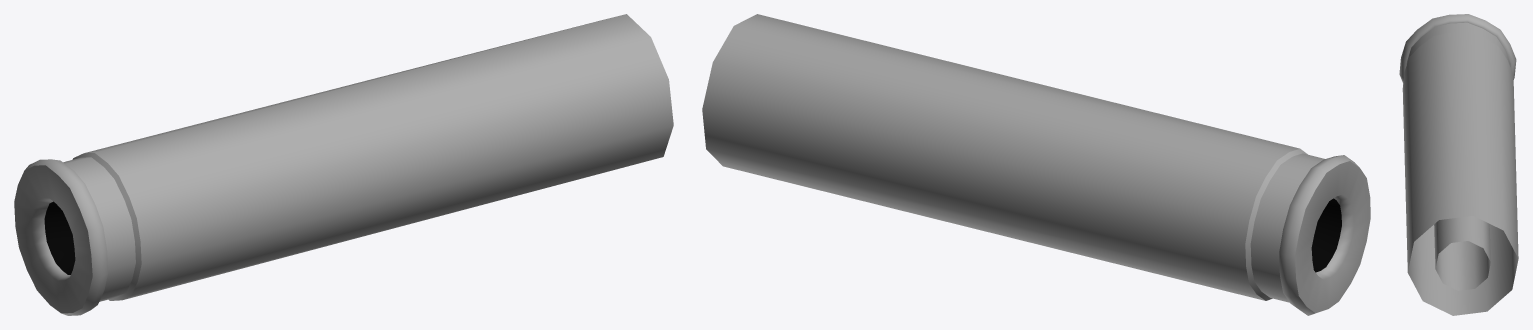
Rendered from prop_pipe.fbx.
The picture shows the model from 3 angles, left to right: view 1: azimuth 30°, elevation 25°; view 2: azimuth 150°, elevation 25°; view 3: azimuth 270°, elevation 25°; orthographic projection. The views are drawn at different scales.
Parts seen in each view (by area): view 1: prop_pipe; view 2: prop_pipe; view 3: prop_pipe.
Boxes of the visible parts, bbox=[...] form: prop_pipe: bbox=[14, 14, 673, 315]; prop_pipe: bbox=[702, 14, 1370, 315]; prop_pipe: bbox=[1399, 14, 1518, 315].
Bounding box in the file's own units: 273 × 65.92 × 66.75.
